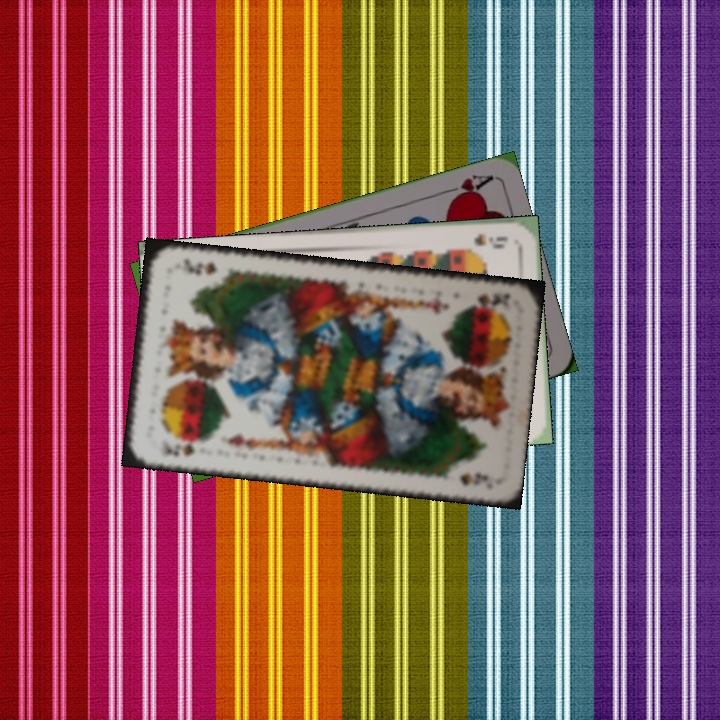HA: (437, 170, 495, 205)
S9: (470, 229, 510, 251)
SK: (160, 435, 209, 459), (464, 288, 514, 311)
